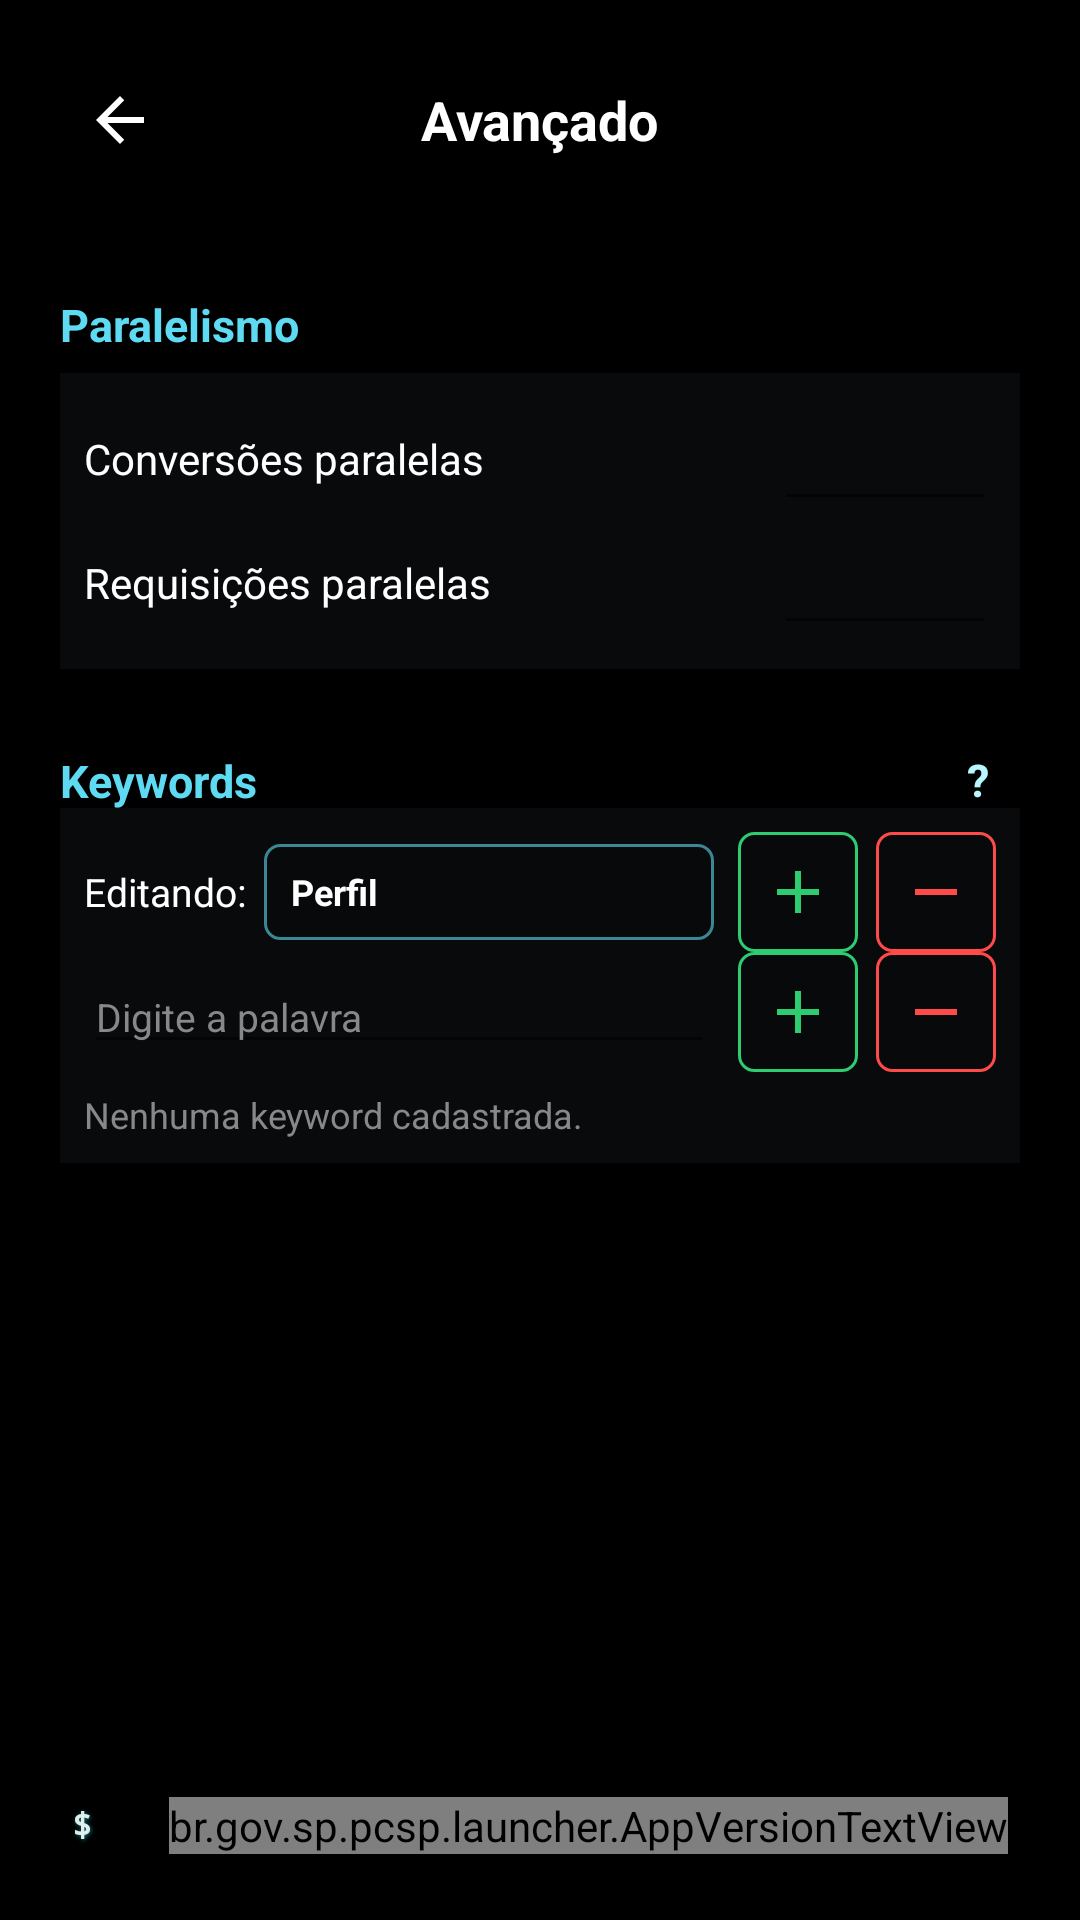

Icon bounding boxes for this 1080*1920 phone screenshot, format (x1, y1, x2, y2):
Adicionar keyword: (738, 952, 858, 1072)
Voltar: (96, 96, 144, 144)
